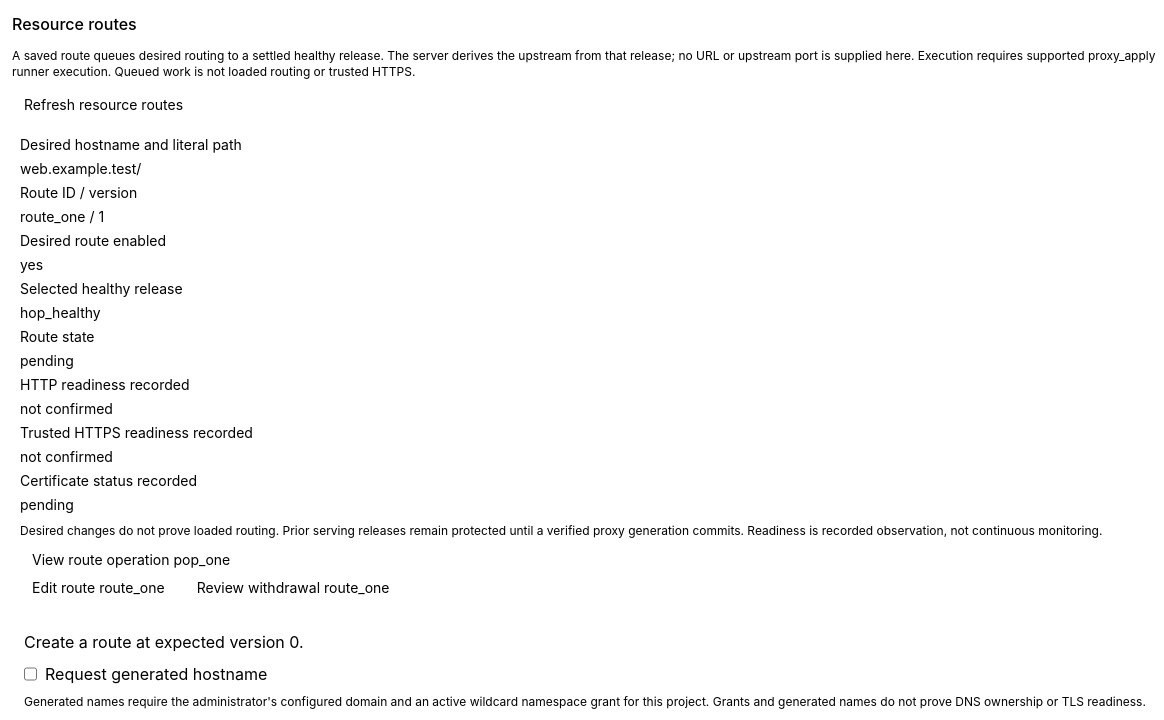
409 preserves input and does not automatically resubmit a refreshed route version
Click the button "Edit route route_one". click: coordinates (98, 588)
box: [20, 578, 177, 598]
(page scrolled)
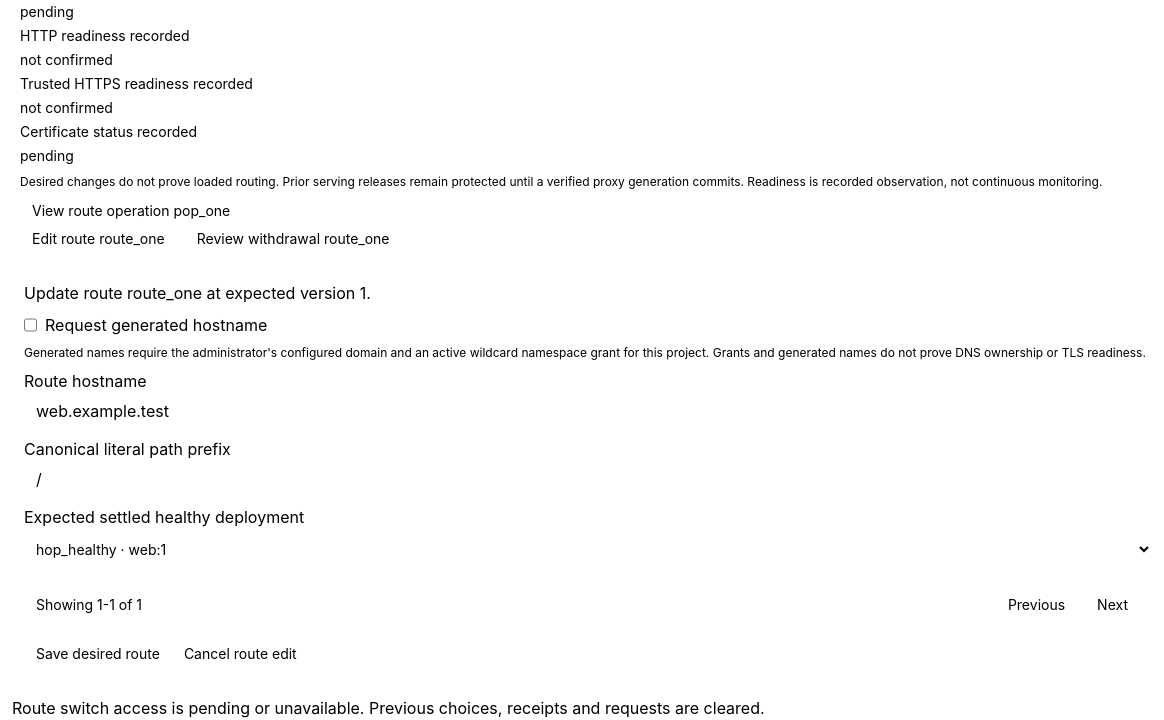
Replace the text in the field labelled "Route hostname" with "draft.example.test". click: coordinates (588, 411)
box: [24, 393, 1152, 429]
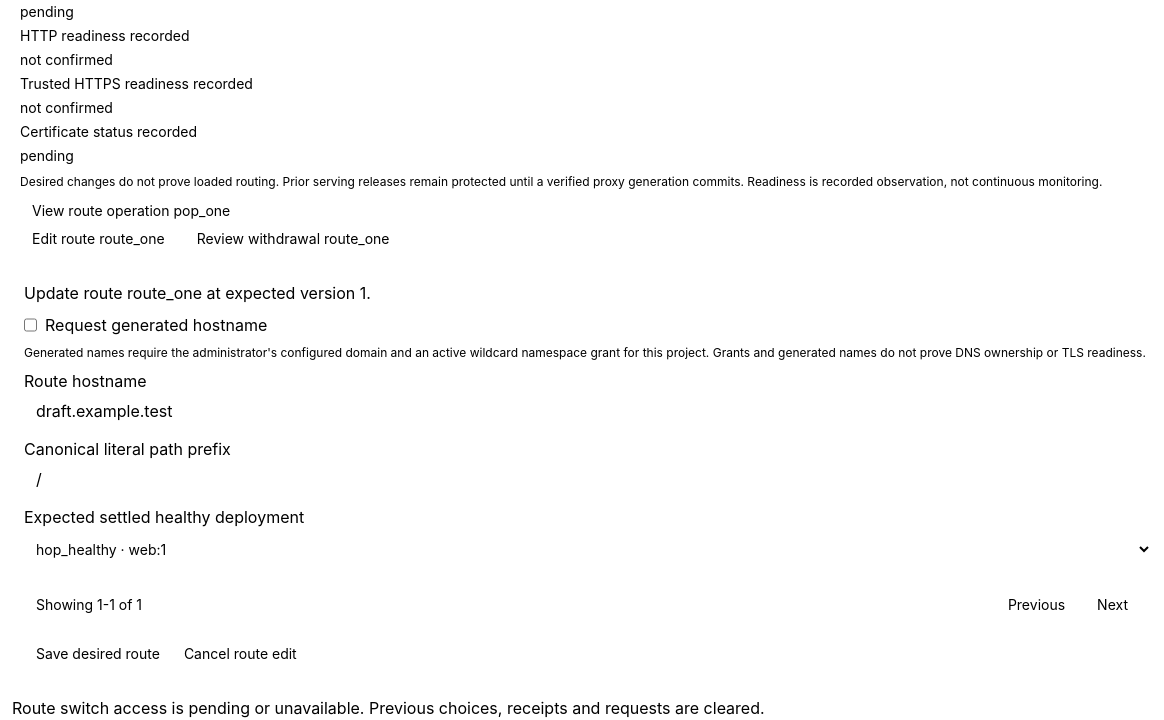
Submit the form, box [12, 269, 1163, 684]
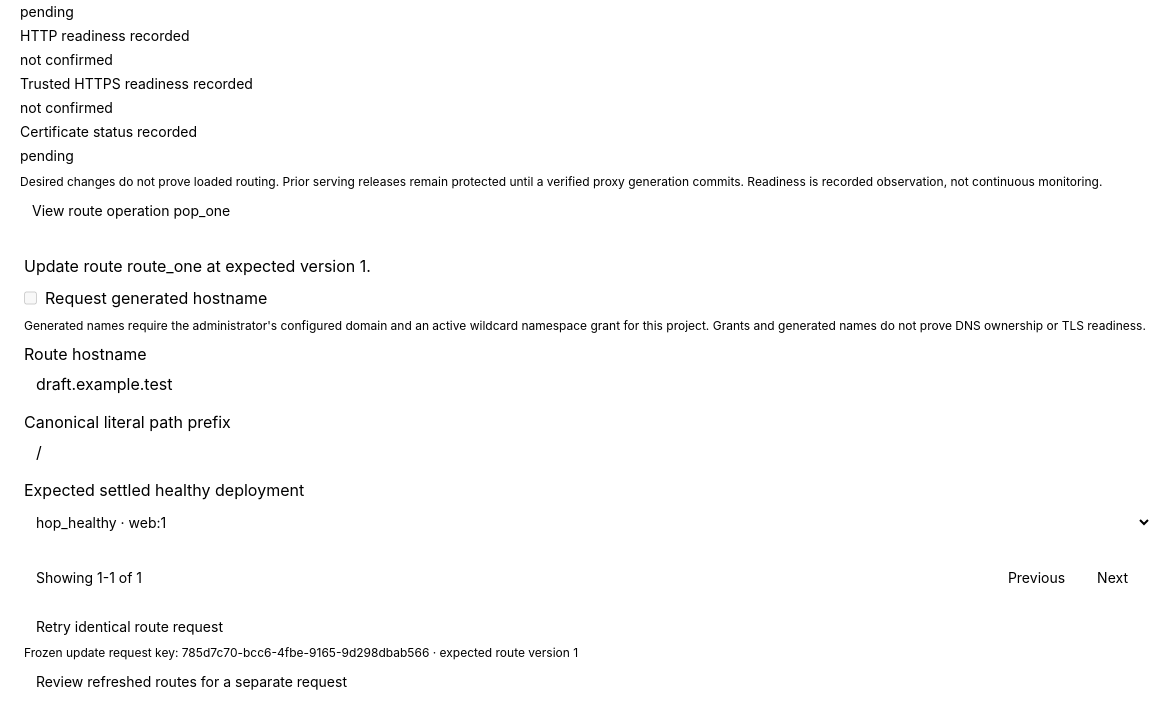
Now the button "Retry identical route request" is disabled, box [24, 617, 235, 637]
